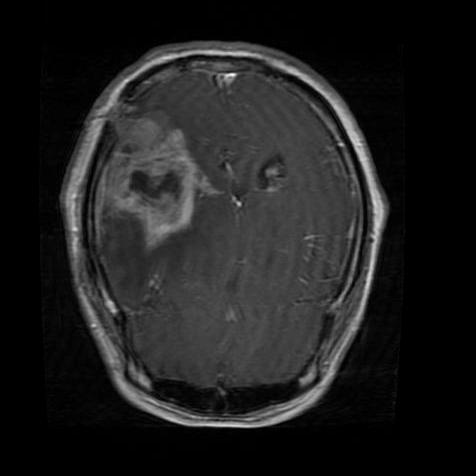Tumour-Glioma: (108, 127, 211, 240)
